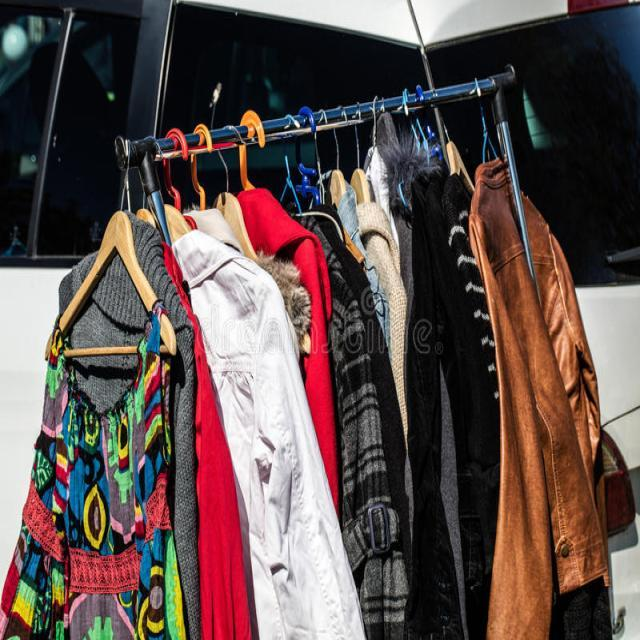clothes: (94, 245, 304, 640), (232, 178, 413, 636), (478, 157, 612, 640), (401, 168, 522, 640), (26, 343, 164, 640)
